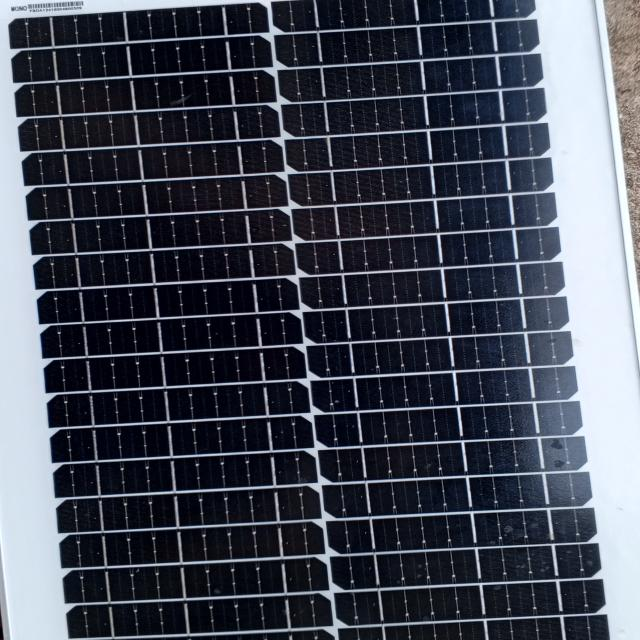Clean: (7, 8, 564, 640)
